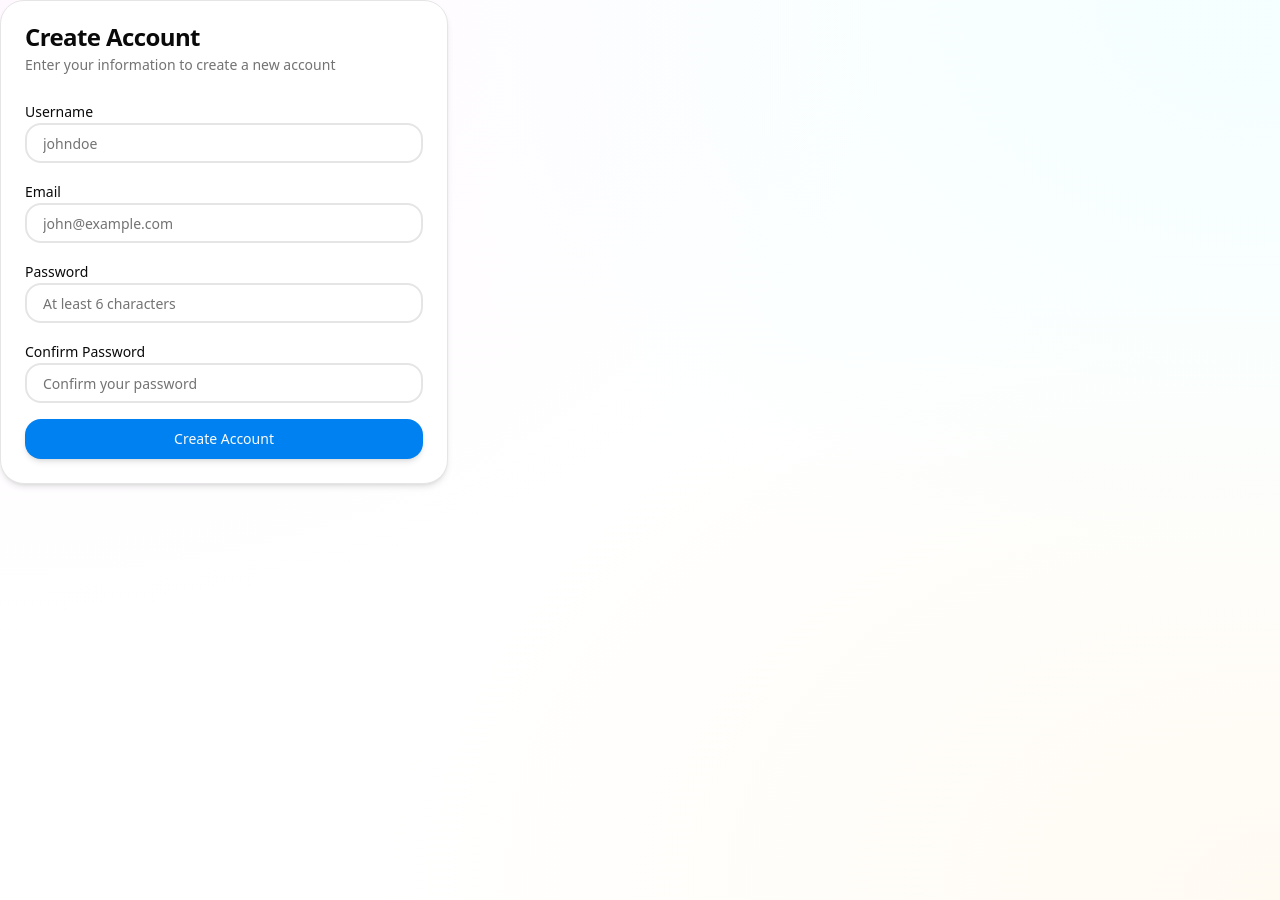
RegisterForm › should show validation errors for empty fields
Click the button "Create Account" at (224, 439), box left=25, top=419, right=423, bottom=459
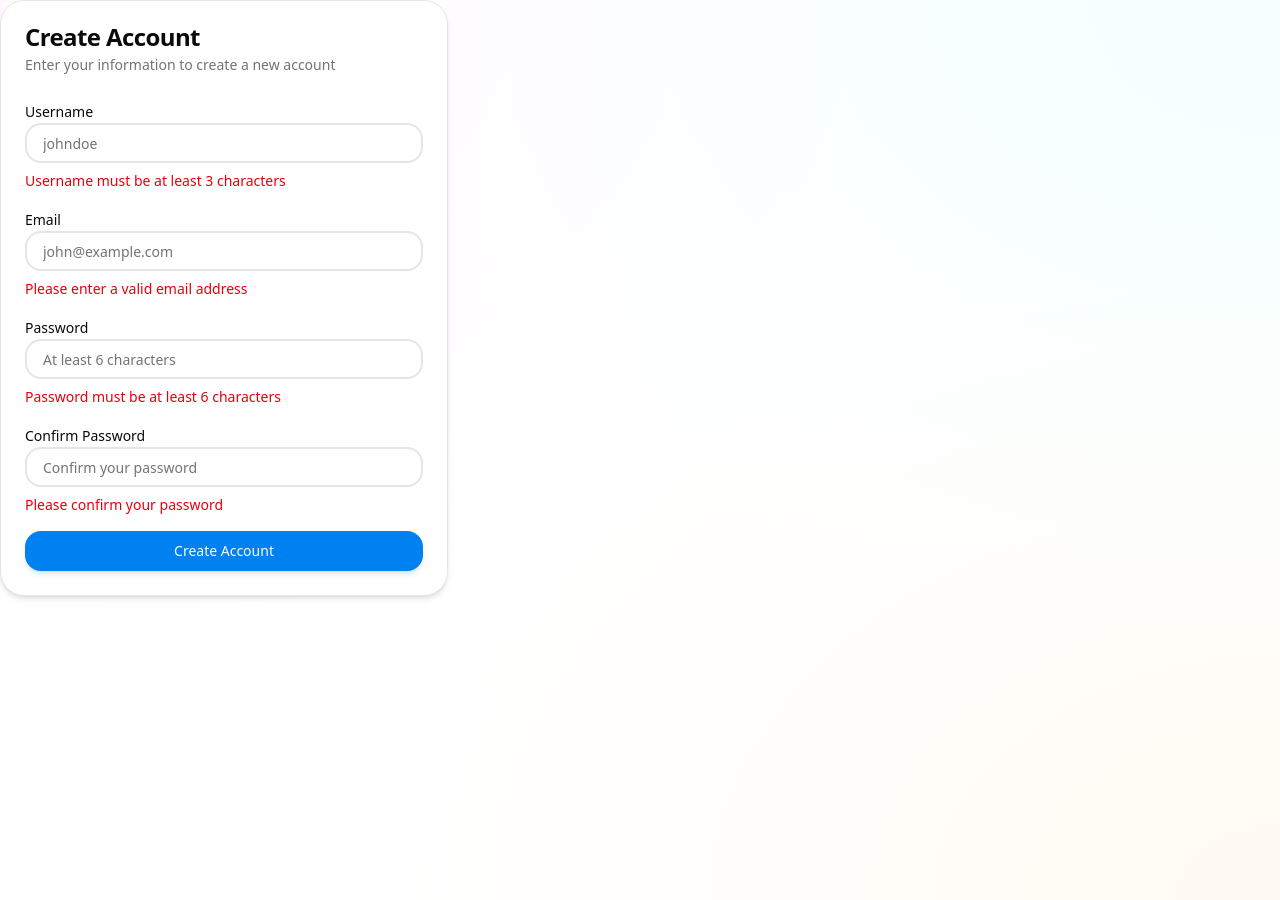
expect the text "Username must be at least 3 characters" is shown: met, box left=25, top=171, right=286, bottom=190
expect the text "Please enter a valid email address" is shown: met, box left=25, top=279, right=248, bottom=298
expect the text "Password must be at least 6 characters" is shown: met, box left=25, top=387, right=281, bottom=406
